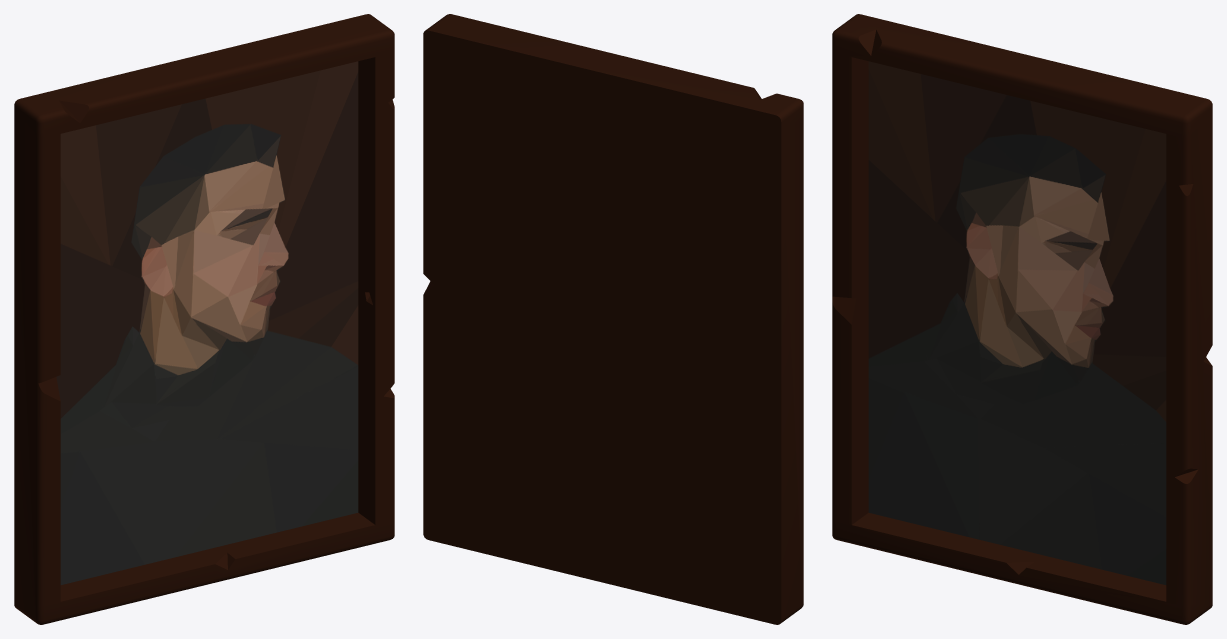
File: PAINTING.FBX
3 renders of one model, left to right at view 1: azimuth 30°, elevation 25°; view 2: azimuth 150°, elevation 25°; view 3: azimuth 330°, elevation 25°, orthographic.
Visible parts, largest first — view 1: Box001; view 2: Box001; view 3: Box001.
Boxes of the visible parts, <box> form: Box001: <box>14,14,394,624</box>; Box001: <box>423,14,803,624</box>; Box001: <box>832,14,1212,624</box>.
Bounding box in the file's own units: 101 × 137 × 12.08.
